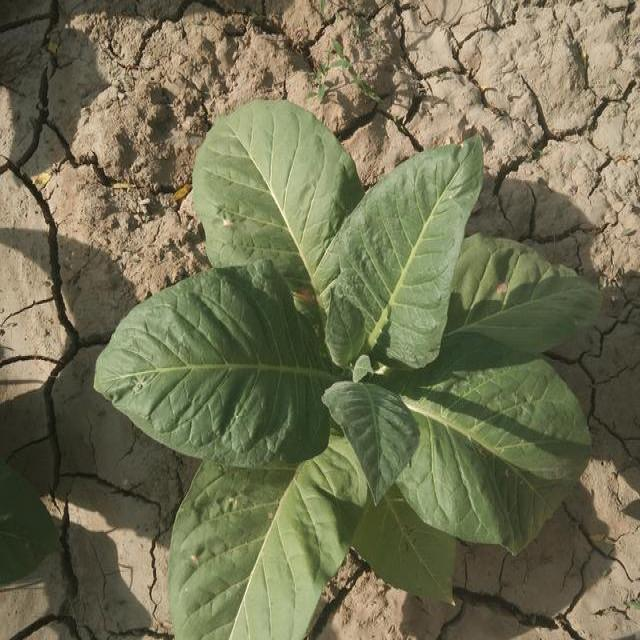crop: (82, 87, 580, 640)
